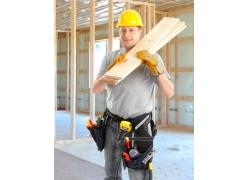helmet: (117, 10, 145, 29)
